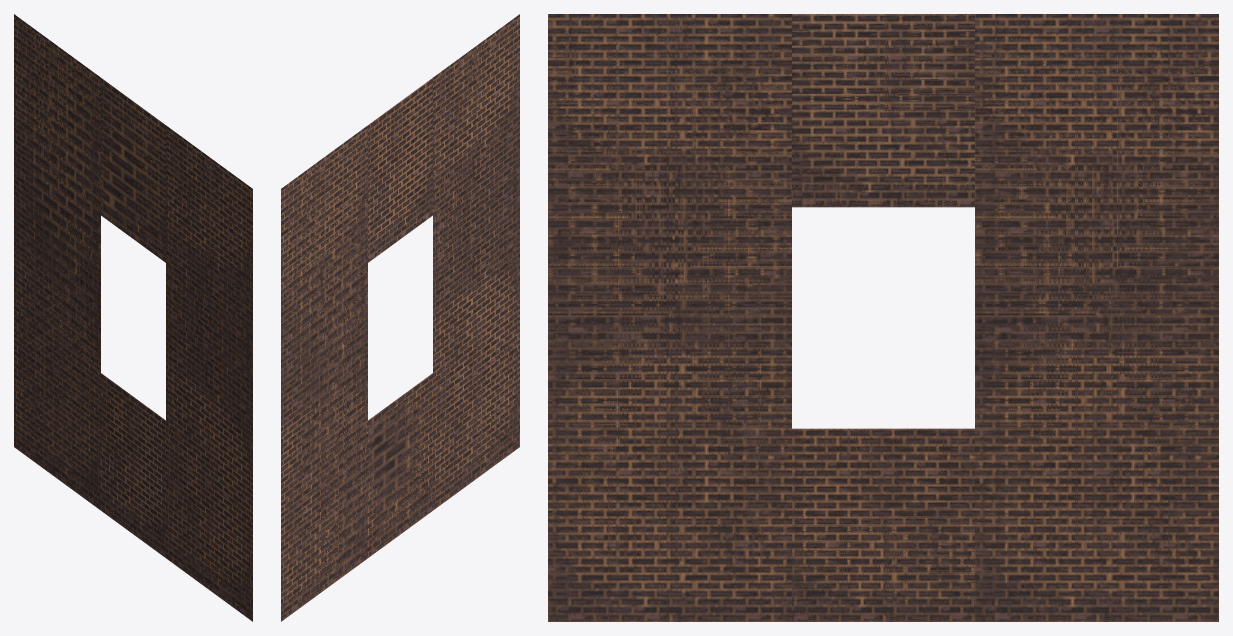
Rendered from RoomWall2.fbx.
3 renders of one model, left to right at view 1: azimuth 30°, elevation 25°; view 2: azimuth 150°, elevation 25°; view 3: azimuth 270°, elevation 25°, orthographic. The views are drawn at different scales.
Visible parts, largest first — view 1: cube, cube_1, cube_2, cube_3; view 2: cube, cube_1, cube_2, cube_3; view 3: cube, cube_1, cube_2, cube_3.
Part boxes in pixels (x1,y1,x2,y2): cube: (14, 14, 100, 510); cube_1: (166, 125, 252, 621); cube_2: (101, 373, 165, 557); cube_3: (101, 78, 165, 262); cube: (281, 125, 367, 621); cube_1: (433, 14, 519, 510); cube_2: (368, 373, 432, 557); cube_3: (368, 78, 432, 262); cube: (975, 14, 1218, 621); cube_1: (548, 14, 791, 621); cube_2: (792, 428, 974, 621); cube_3: (792, 14, 974, 207).
Size of the model in its own units: 0 by 138 by 138.
1 material, 1 textured.
